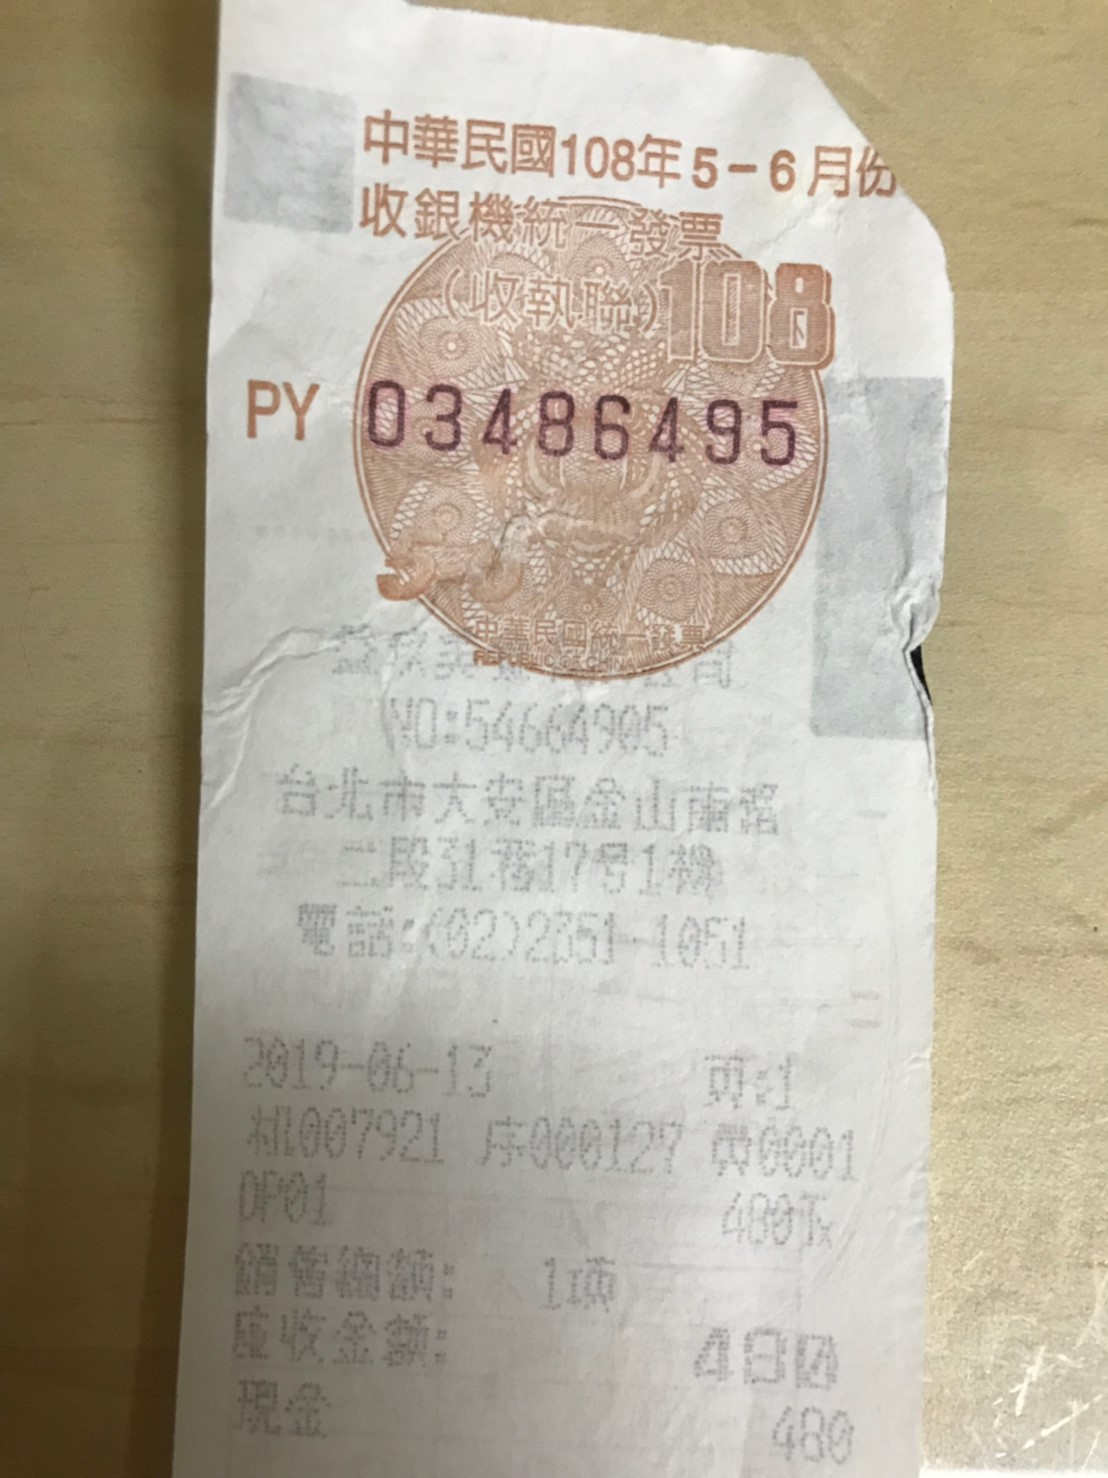Date_Old: (562, 132, 904, 201)
Number_Old: (364, 376, 807, 469)
